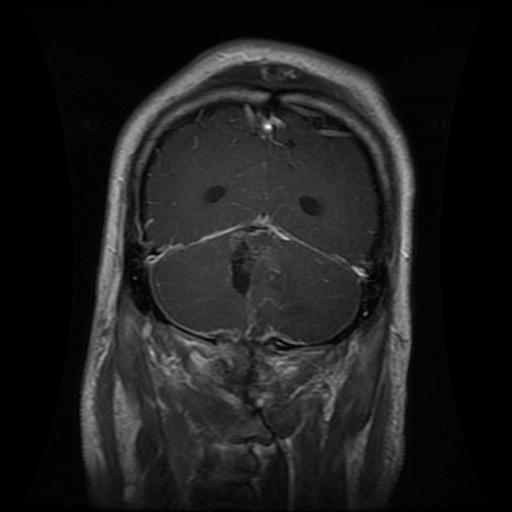Gliomia_tumour: (223, 223, 287, 305)
